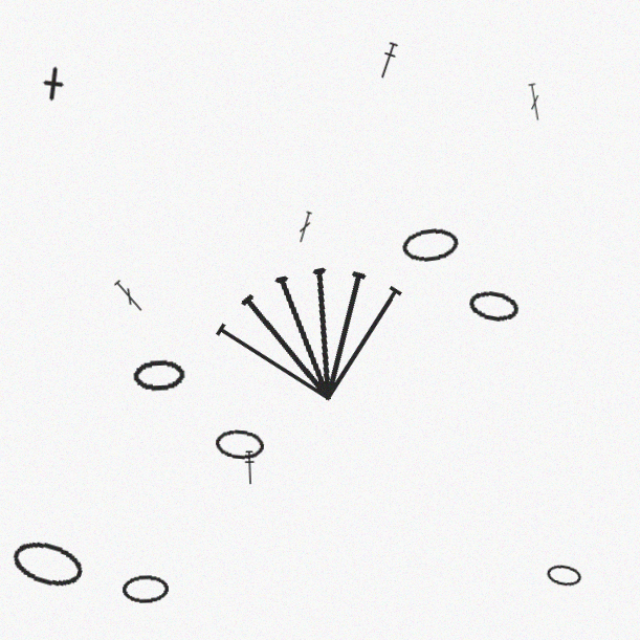chain: (28, 517, 104, 574), (403, 222, 461, 260), (466, 281, 519, 318), (147, 349, 199, 382), (225, 415, 275, 447), (137, 555, 183, 583), (541, 544, 578, 569)
double: (128, 272, 161, 307), (523, 86, 540, 123), (303, 208, 321, 240)
fan: (210, 228, 429, 411)
half_double: (379, 46, 403, 84), (253, 437, 266, 470)
single: (53, 68, 91, 106)
